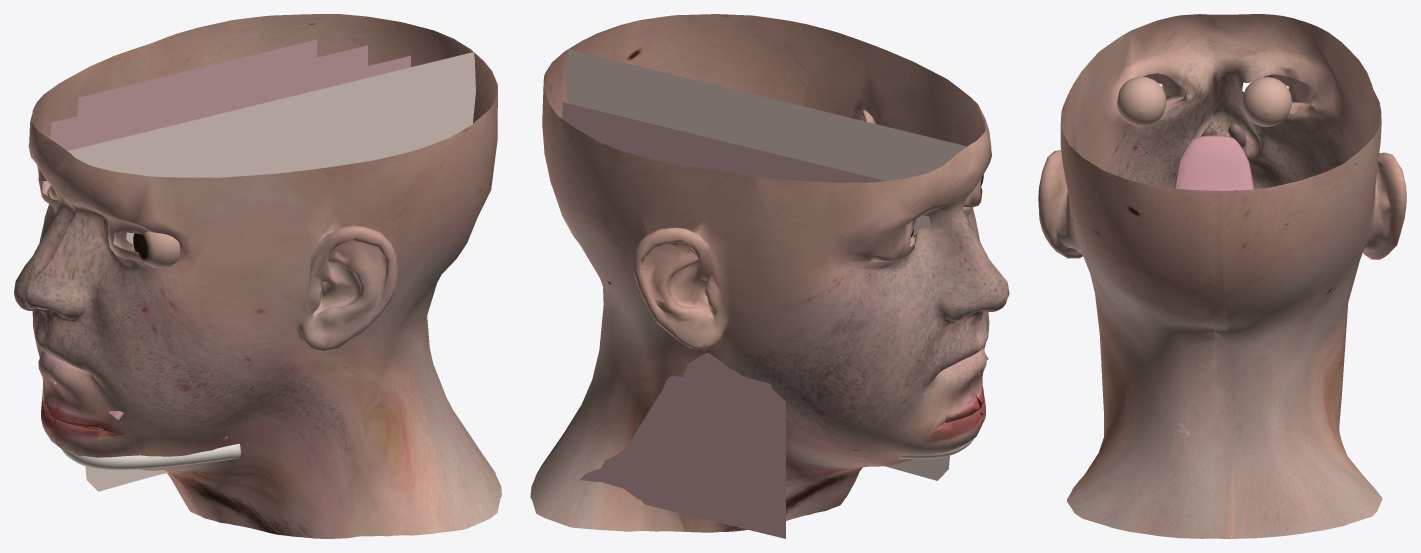
Rendered from cara.glb.
3 renders of one model, left to right at view 1: azimuth 30°, elevation 25°; view 2: azimuth 150°, elevation 25°; view 3: azimuth 270°, elevation 25°, orthographic. The views are drawn at different scales.
Parts seen in each view (by area): view 1: cabeza_cercana, corte_craneo, cabeza_lejana, pared_lejana_2, pared_lejana_3, pared_lejana, mandibula_modelada, ojo_der, corte_mandibula; view 2: cabeza_lejana, cabeza_cercana, pared_lejana_3, corte_craneo, pared_lejana, pared_lejana_2, corte_mandibula; view 3: cabeza_lejana, cabeza_cercana, techo_nasal, ojo_izq, ojo_der.
Boxes of the visible parts, x1,y1,x2,y2 form: cabeza_cercana: (25, 52, 501, 538); corte_craneo: (67, 52, 475, 244); cabeza_lejana: (14, 14, 476, 513); pared_lejana_2: (50, 45, 367, 142); pared_lejana_3: (77, 39, 317, 115); pared_lejana: (56, 55, 410, 150); mandibula_modelada: (61, 443, 240, 469); ojo_der: (133, 231, 180, 268); corte_mandibula: (85, 466, 179, 491); cabeza_lejana: (530, 49, 1009, 532); cabeza_cercana: (569, 14, 1008, 498); pared_lejana_3: (579, 353, 785, 538); corte_craneo: (566, 49, 967, 235); pared_lejana: (562, 102, 886, 182); pared_lejana_2: (569, 124, 799, 449); corte_mandibula: (884, 455, 949, 480); cabeza_lejana: (1214, 14, 1406, 538); cabeza_cercana: (1038, 14, 1213, 538); techo_nasal: (1173, 135, 1254, 190); ojo_izq: (1242, 77, 1291, 126); ojo_der: (1117, 76, 1166, 126).
Size of the model in its own units: 9.84 by 8.71 by 7.77.
Materials: 8 (1 with a texture image).
